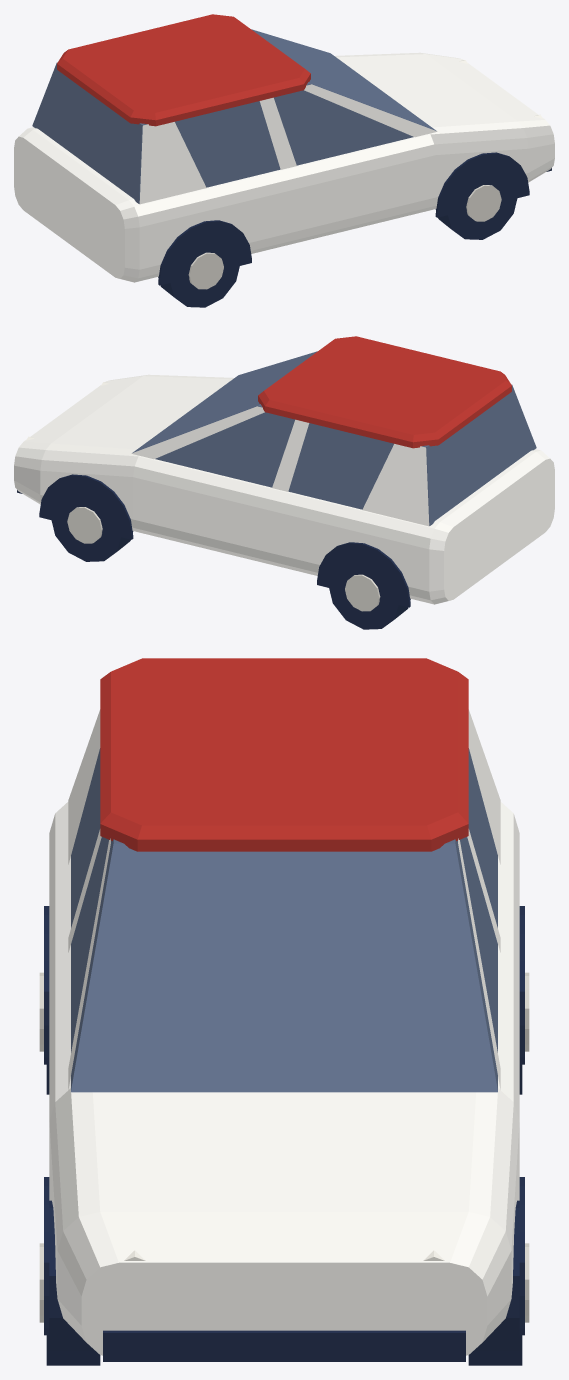
The model's file is car.glb.
3 renders of one model, top to bottom at view 1: azimuth 30°, elevation 25°; view 2: azimuth 150°, elevation 25°; view 3: azimuth 270°, elevation 25°, orthographic. The views are drawn at different scales.
Parts seen in each view (by area): view 1: model; view 2: model; view 3: model.
Part boxes in pixels (<box>): model: <box>14,14,554,307</box>; model: <box>14,336,554,629</box>; model: <box>39,658,529,1365</box>.
Size of the model in its own units: 3.78 by 1.58 by 1.83.
